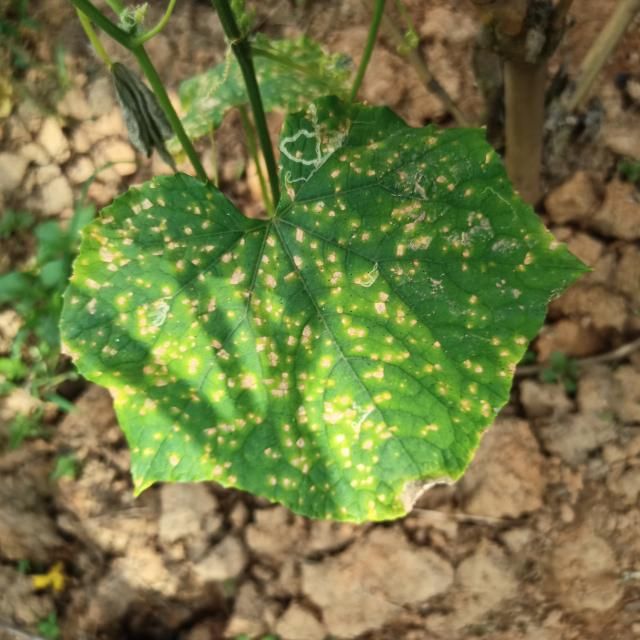disease_cucumber: (79, 146, 565, 518)
